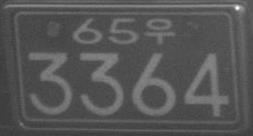3: (79, 51, 125, 117), (27, 50, 72, 117)
4: (183, 52, 230, 117)
5: (107, 17, 138, 45)
6: (130, 52, 177, 117), (72, 17, 103, 45)
우: (144, 17, 175, 45)
